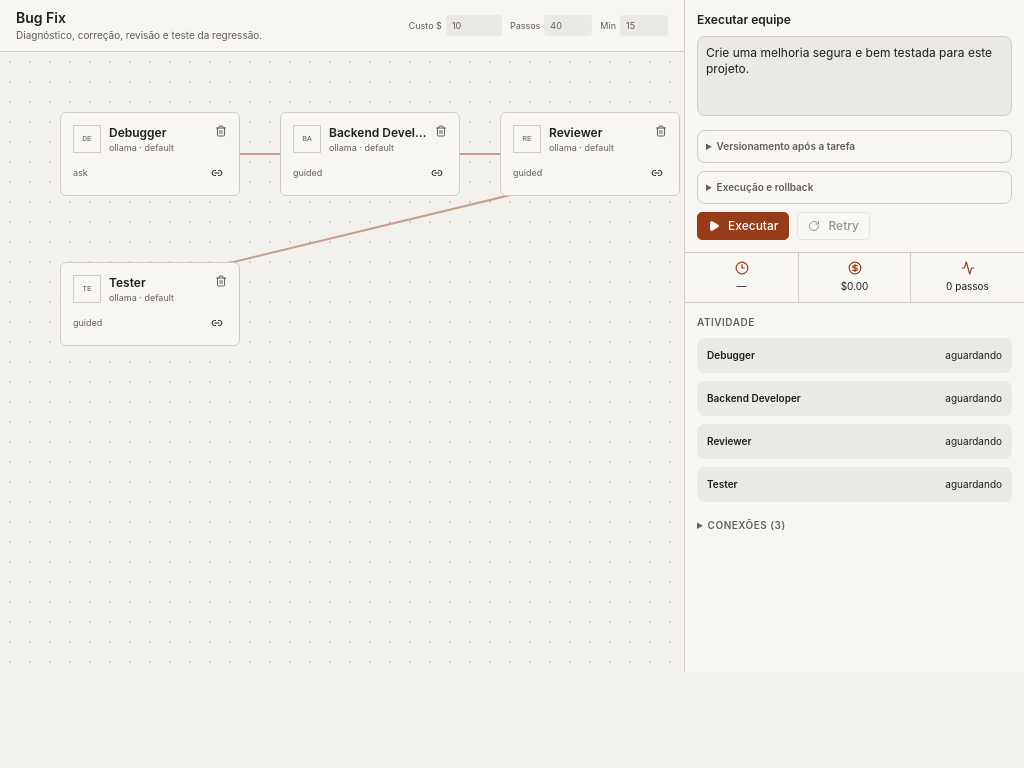
Test case: sistema visual de agentes › executa uma equipe e mostra atividade, arquivos, custo e histórico
Click the button "Executar" at {"x": 743, "y": 226}, box top-left (697, 212), bottom-right (790, 240)
(page scrolled)
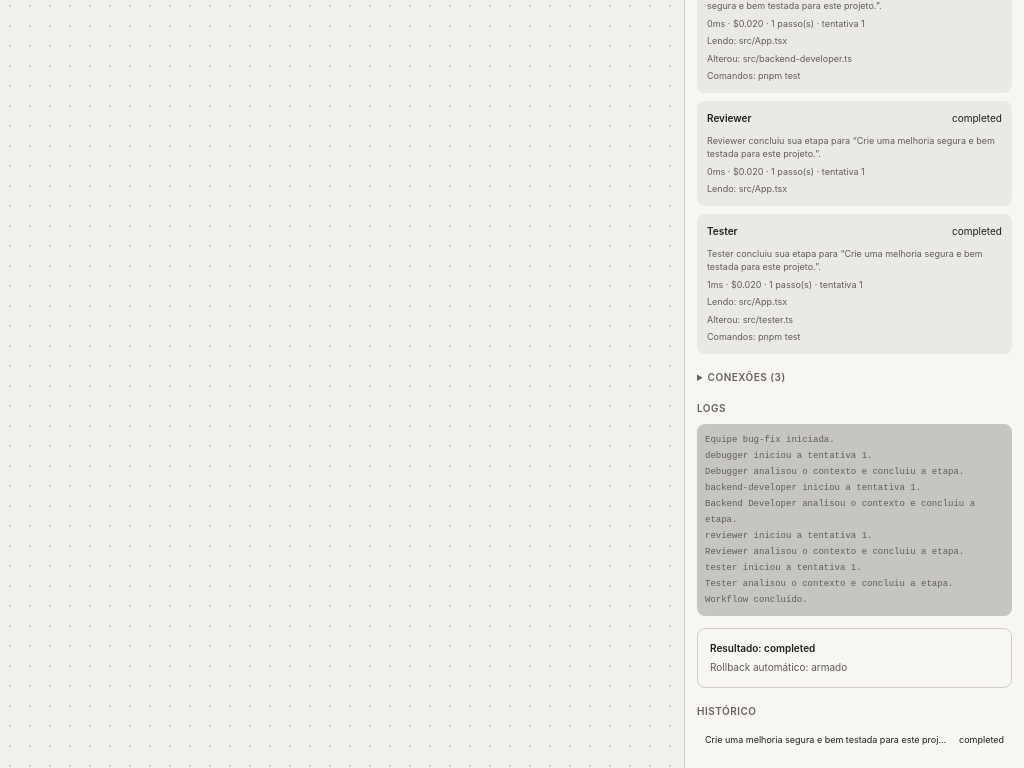
Expected: the text "Resultado: completed" is shown, top-left (710, 642), bottom-right (815, 654)
Expected: the heading "Histórico" is shown, top-left (697, 704), bottom-right (756, 716)
